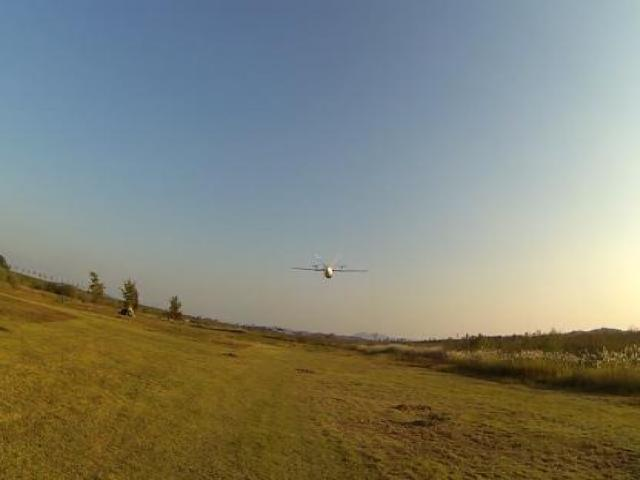uav: (288, 242, 374, 292)
